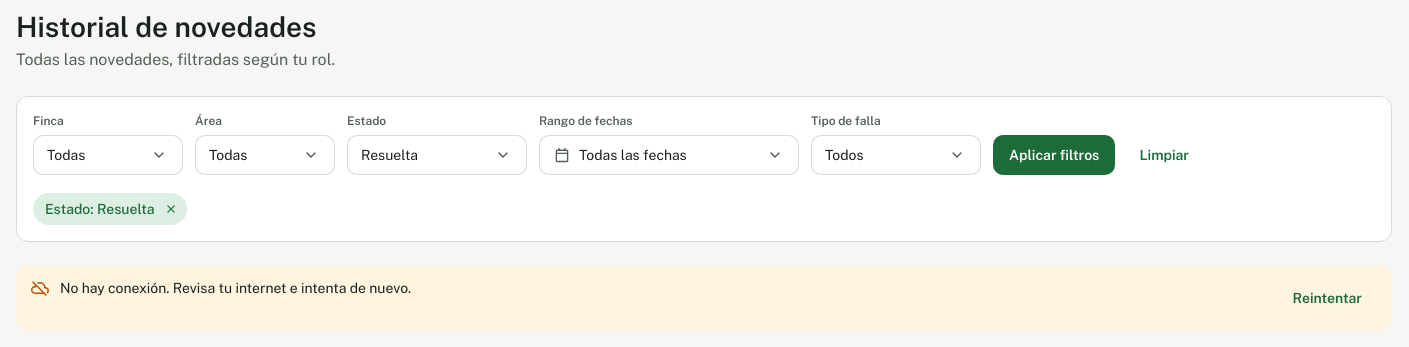
it: Pantalla 21 · Historial de novedades (RF-19, CU-19) › RF-19: el error de unos filtros no se queda mientras cargan otros
Expected: the button "Reintentar" is shown, [1276,278,1378,318]
Click the button named "Quitar el filtro Estado: Resuelta": (171, 209) [159,197,183,221]
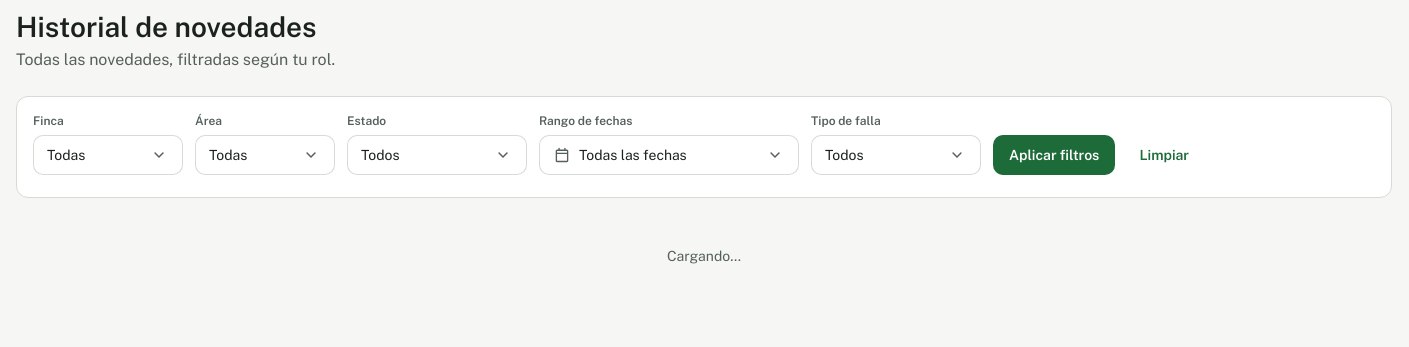
Result: the text "Cargando…" is shown at [667,248,741,264]
Result: the button "Reintentar" is gone
